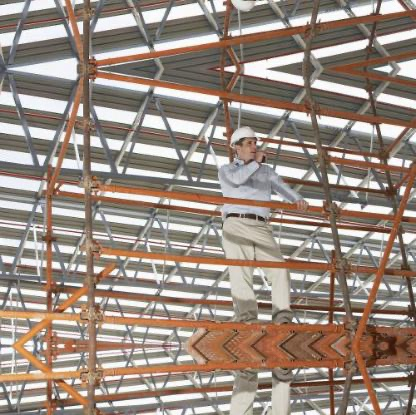Safety Helmet: (222, 121, 267, 168)
